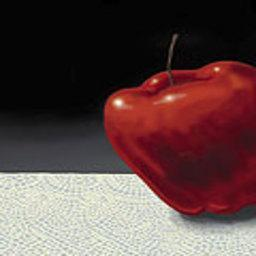apple: (103, 65, 256, 219)
